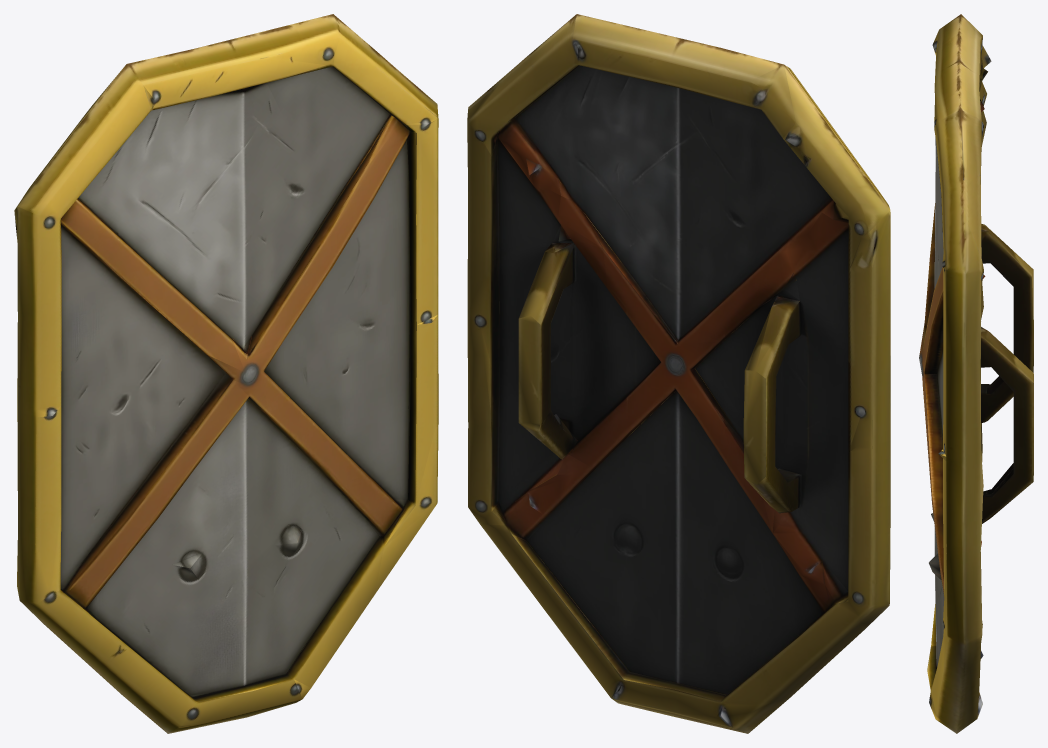
Rendered from wpn_shield2.glb.
3 views of the same model, side by side, from view 1: azimuth 30°, elevation 25°; view 2: azimuth 150°, elevation 25°; view 3: azimuth 270°, elevation 25° (orthographic). The views are drawn at different scales.
Size of the model in its own units: 1.24 by 1.92 by 0.3103.
1 material, 1 textured.
